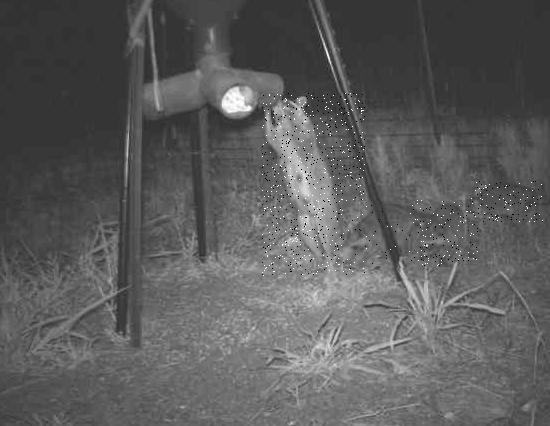Raccoon: (261, 94, 364, 277), (343, 202, 424, 269), (417, 201, 478, 267), (468, 181, 544, 222)
